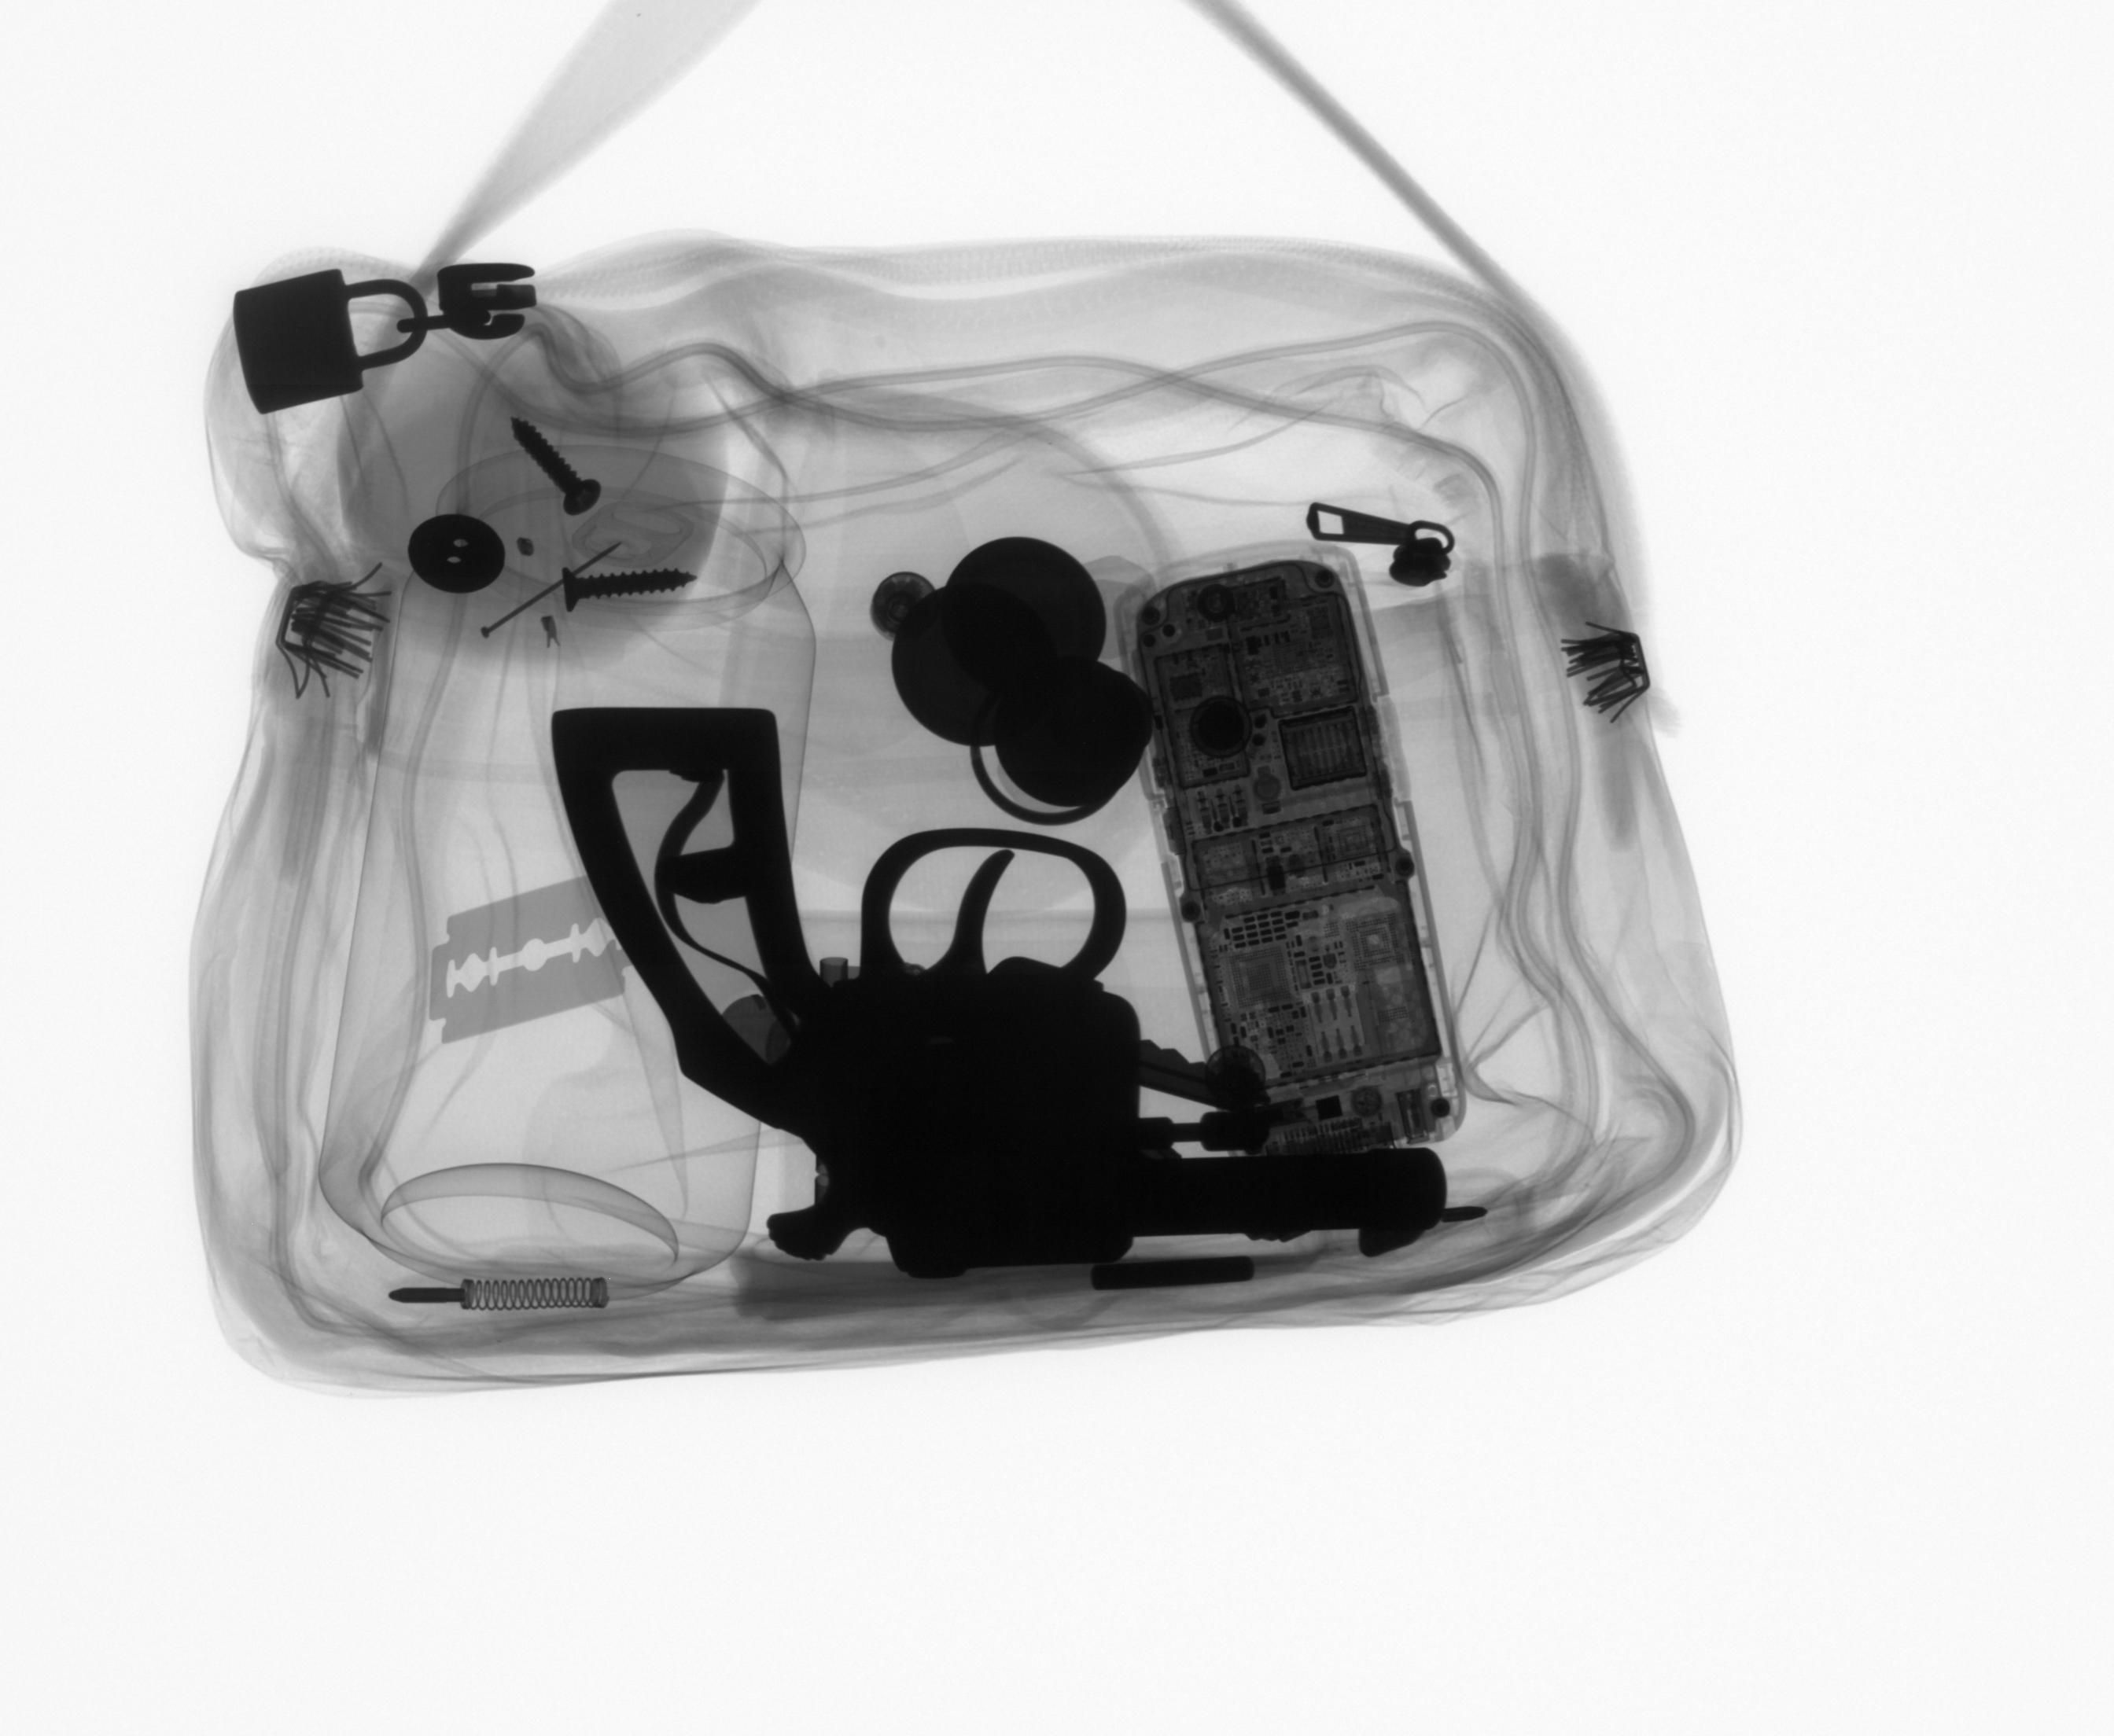Handgun: (543, 697, 1457, 1287)
RazorBlade: (421, 869, 655, 1048)
